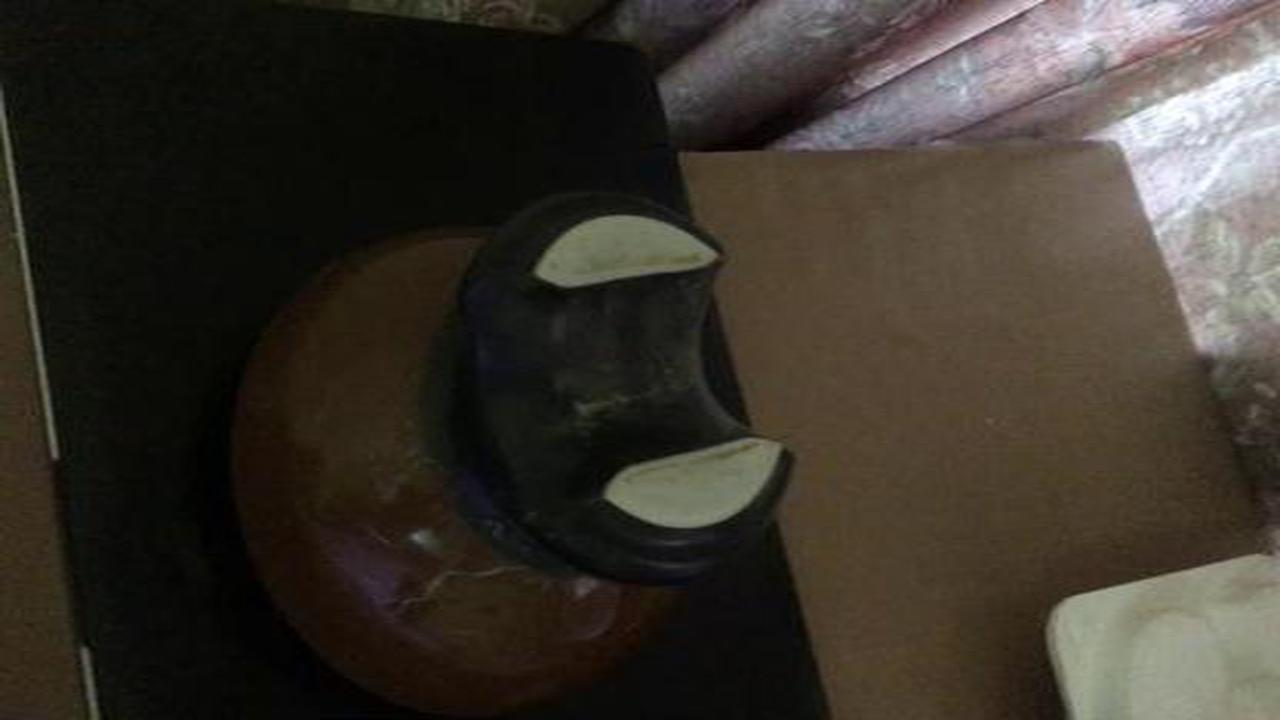insulator_pin: (204, 177, 816, 714)
